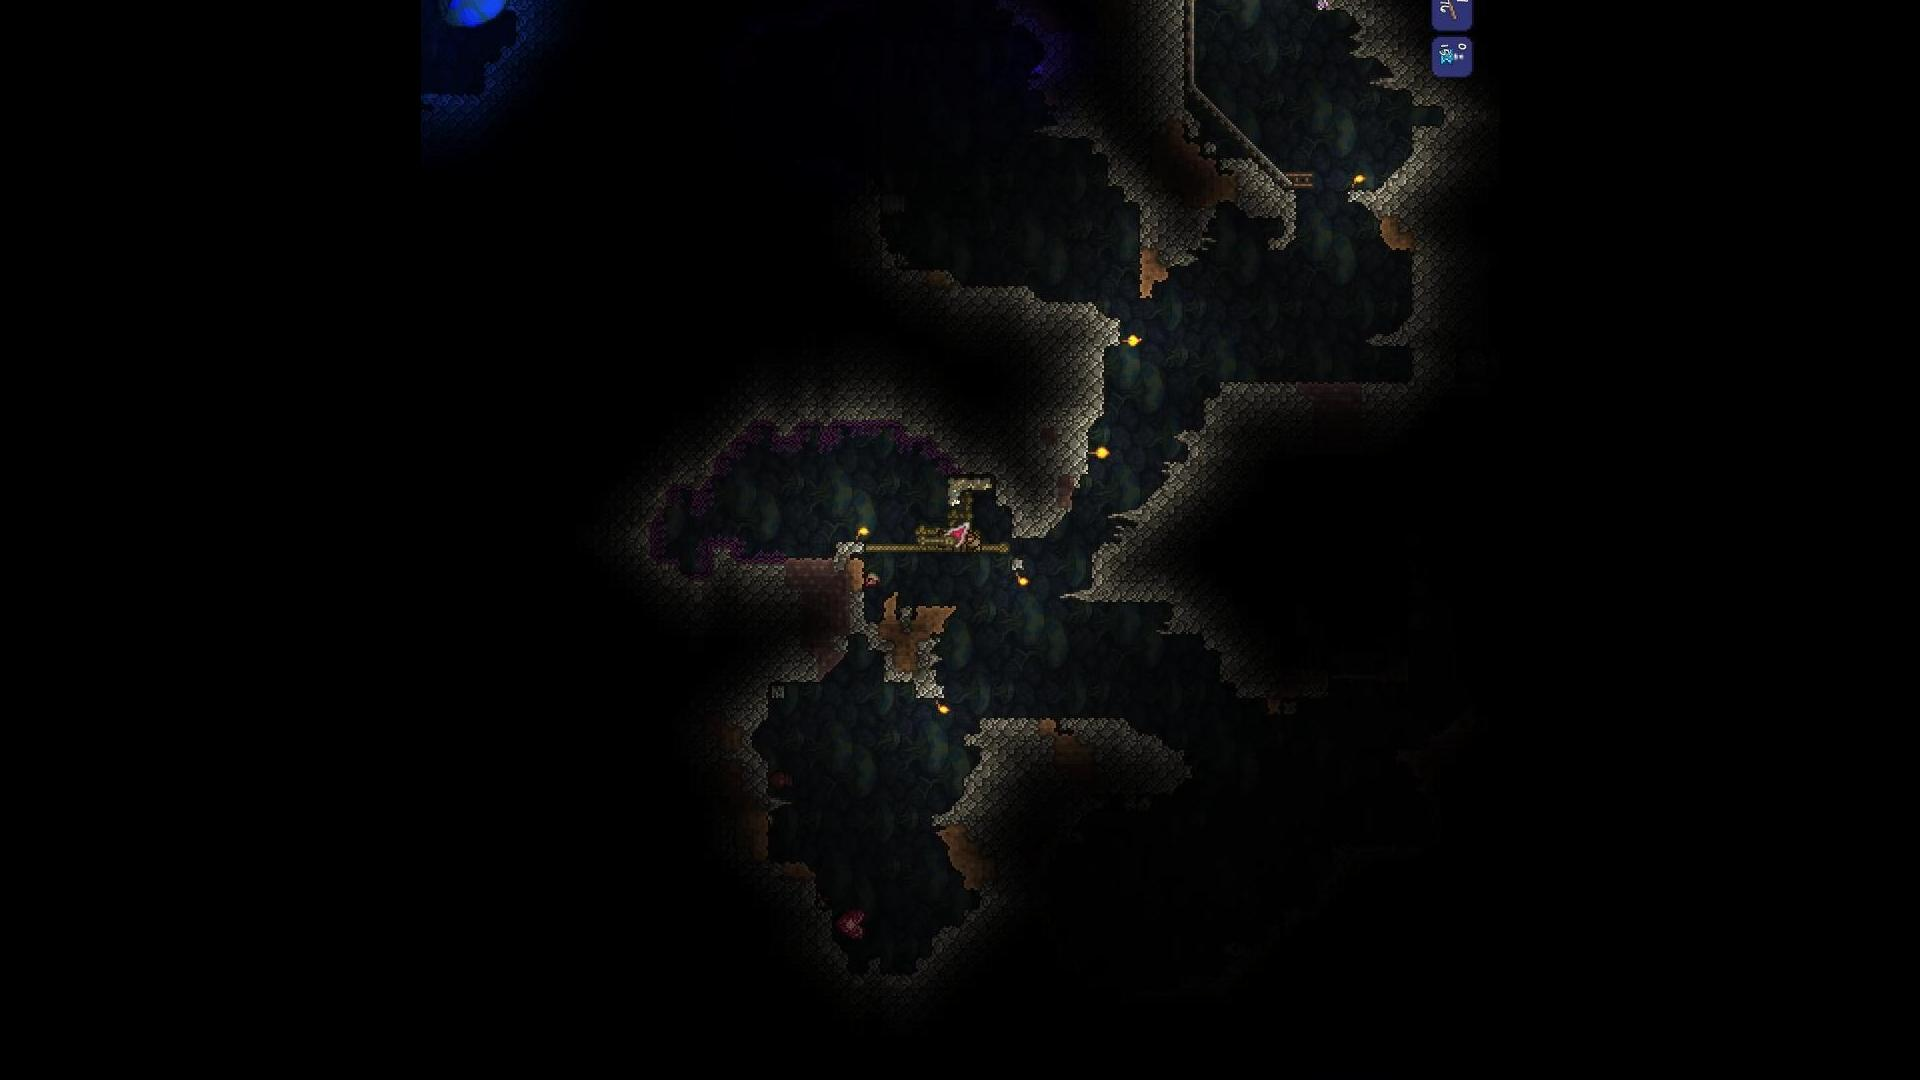lifeC: (828, 906, 873, 942)
recallP: (1440, 50, 1466, 63)
